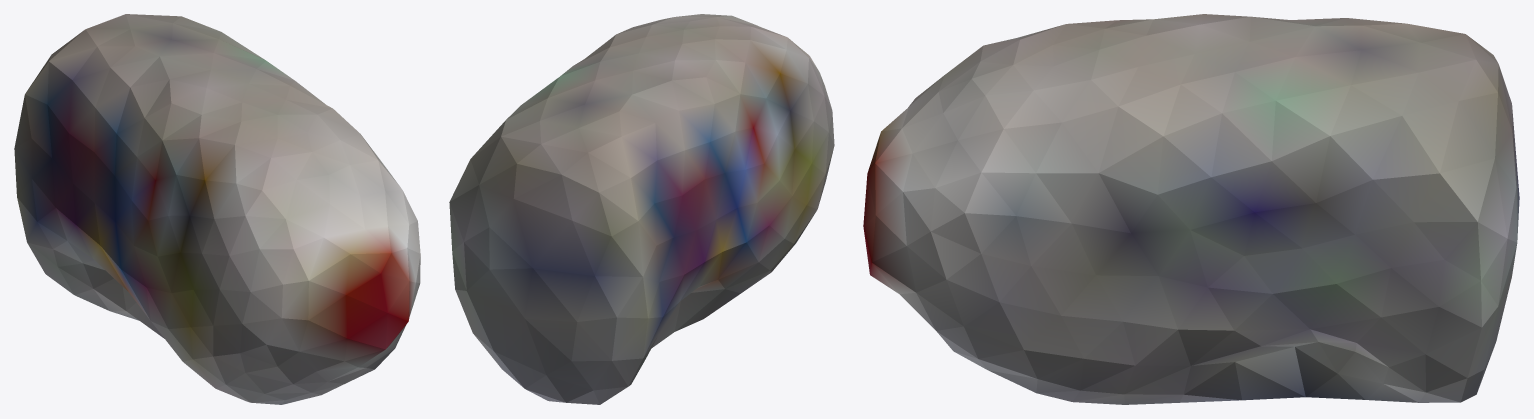
Rendered from persil-detergent.dae.
3 renders of one model, left to right at view 1: azimuth 30°, elevation 25°; view 2: azimuth 150°, elevation 25°; view 3: azimuth 270°, elevation 25°, orthographic. The views are drawn at different scales.
Parts seen in each view (by area): view 1: node; view 2: node; view 3: node.
Part boxes in pixels (x1,y1,x2,y2): node: (14, 14, 420, 404); node: (449, 14, 834, 404); node: (863, 14, 1519, 404).
Bounding box in the file's own units: 0.1605 × 0.2201 × 0.3548.
